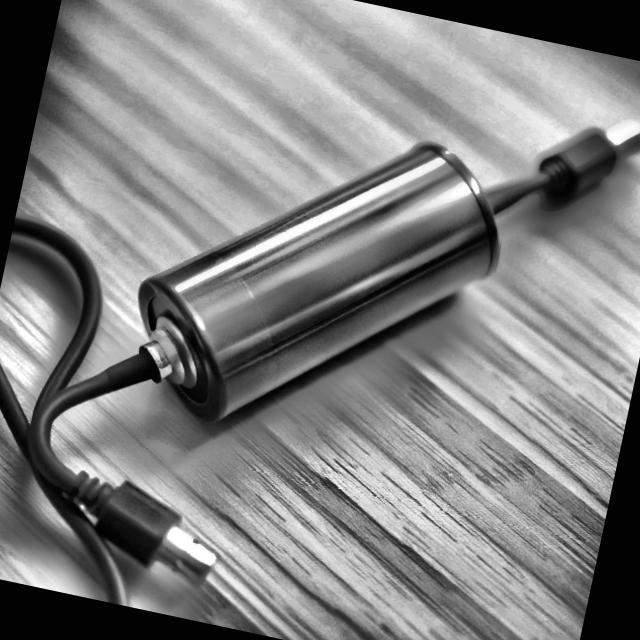Battery: (134, 138, 495, 421)
Cable: (0, 215, 214, 604), (481, 119, 640, 213)
